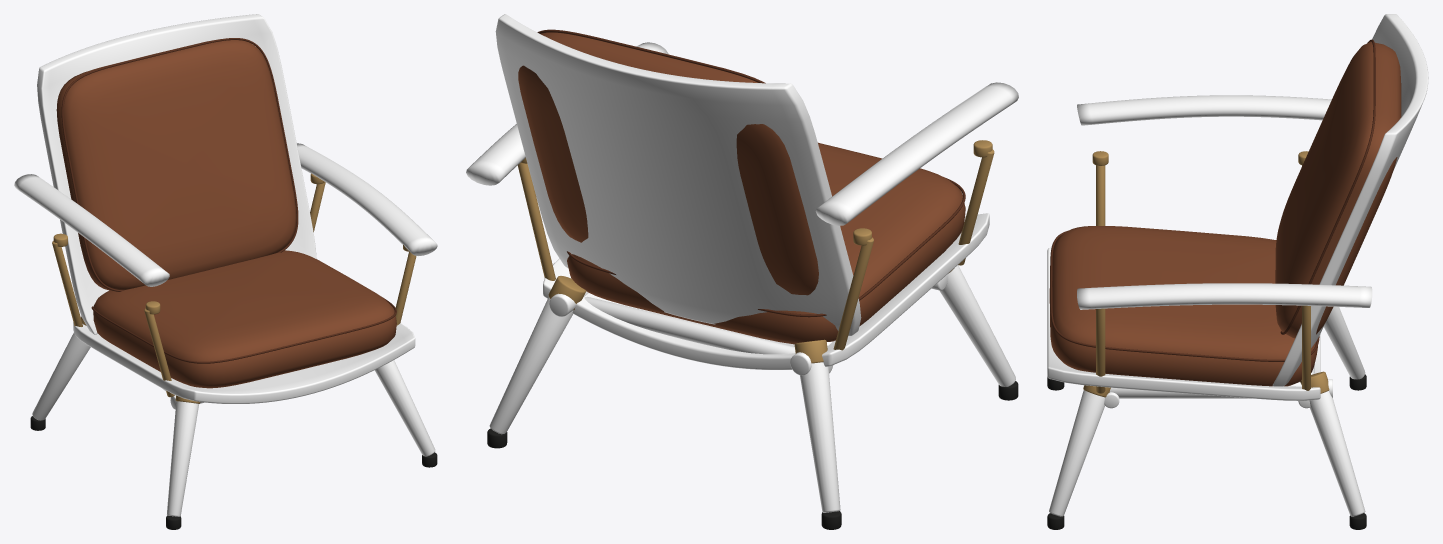
Rendered from asset.glb.
The picture shows the model from 3 angles, left to right: view 1: azimuth 30°, elevation 25°; view 2: azimuth 150°, elevation 25°; view 3: azimuth 270°, elevation 25°; orthographic projection. The views are drawn at different scales.
Visible parts, largest first — view 1: back_cushion, seat_cushion, timber_back, timber_seat, arm_left, arm_right, leg_front_left, leg_front_right, leg_rear_left, back_cushion_piping, seat_cushion_piping, arm_support_rear_left (+2 smaller); view 2: timber_back, back_cushion, seat_cushion, timber_seat, arm_left, leg_rear_left, cross_brace_rear, leg_rear_right, leg_front_left, arm_right, arm_support_rear_right, arm_support_rear_left (+3 smaller); view 3: seat_cushion, back_cushion, timber_back, arm_right, arm_left, timber_seat, leg_front_right, leg_rear_right, leg_rear_left, seat_cushion_piping, underframe_right, back_cushion_piping (+3 smaller).
Boxes of the visible parts, x1,y1,x2,y2 form: back_cushion: (56,39,296,291); seat_cushion: (93,250,396,388); timber_back: (37,14,316,334); timber_seat: (73,322,415,403); arm_left: (14,174,169,286); arm_right: (297,143,437,255); leg_front_left: (167,401,198,516); leg_front_right: (374,360,435,456); leg_rear_left: (32,332,90,420); back_cushion_piping: (61,38,298,291); seat_cushion_piping: (91,297,396,363); arm_support_rear_left: (52,241,82,326); timber_back: (495,14,861,335); back_cushion: (518,32,818,295); seat_cushion: (567,142,965,344); timber_seat: (543,213,989,369); arm_left: (815,82,1018,225); leg_rear_left: (800,362,840,512); cross_brace_rear: (584,296,833,373); leg_rear_right: (489,297,573,434); leg_front_left: (939,265,1015,386); arm_right: (466,42,668,185); arm_support_rear_right: (517,162,555,280); arm_support_rear_left: (833,237,873,350); seat_cushion: (1049,226,1317,386); back_cushion: (1275,42,1401,338); timber_back: (1272,14,1428,386); arm_right: (1077,283,1372,309); arm_left: (1077,95,1331,125); timber_seat: (1047,247,1320,400); leg_front_right: (1049,390,1104,516); leg_rear_right: (1309,391,1365,516); leg_rear_left: (1324,306,1365,379); seat_cushion_piping: (1050,230,1319,361); underframe_right: (1109,379,1332,398); back_cushion_piping: (1280,39,1375,334).
Size of the model in its own units: 1.09 by 1.19 by 1.07.
